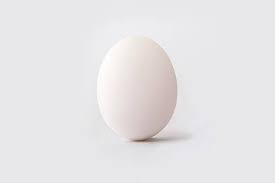eggs: (93, 28, 183, 142)
